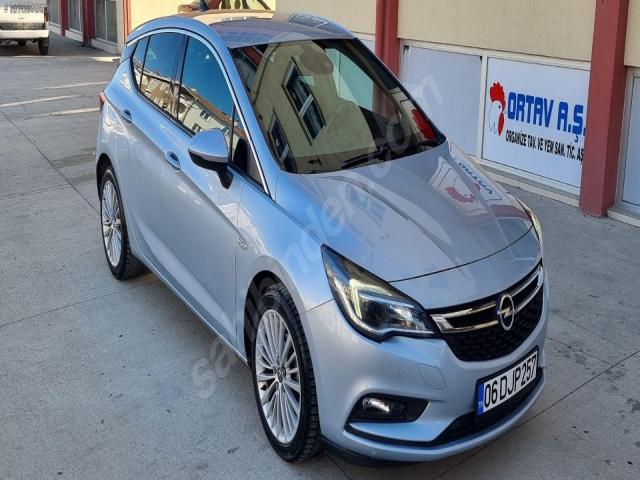plaka: (477, 351, 537, 415)
